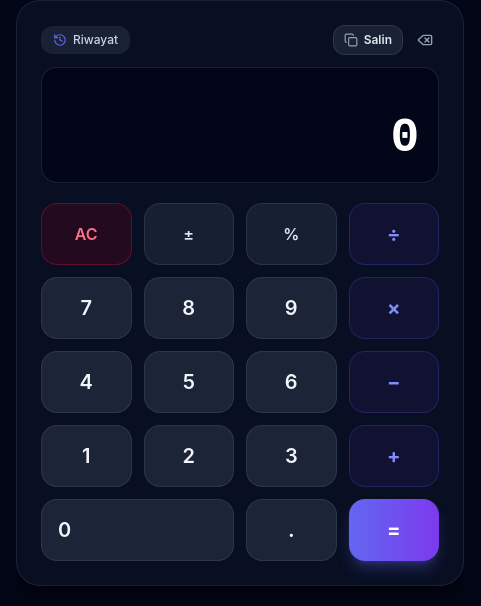
Test case: StandardCalculator Component › opens and closes history drawer
Click the button "Riwayat": click(86, 40) [41,26,130,54]
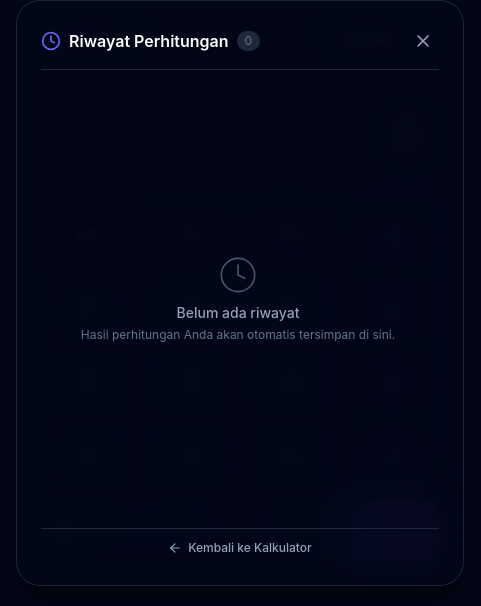
Check: the heading "Riwayat Perhitungan" is shown, box [69,29,229,53]
Click the button named "tutup riwayat": click(423, 41) [407,25,439,57]
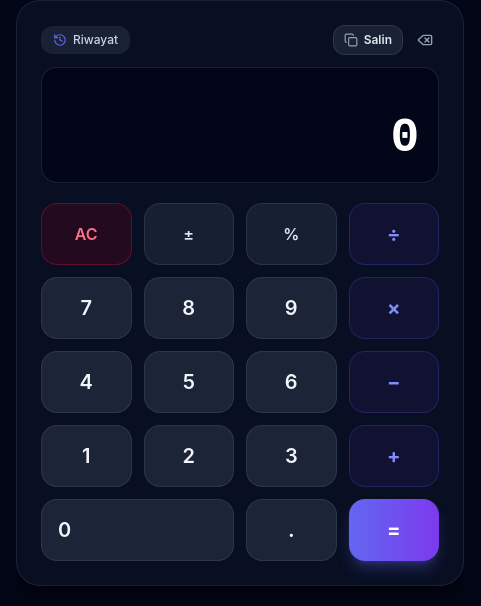
Check: the heading "Riwayat Perhitungan" is gone
